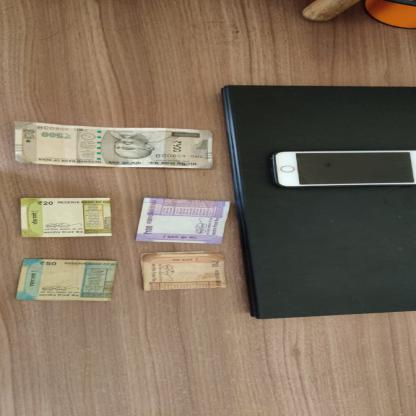New100Back: (135, 198, 231, 244)
New10Back: (138, 249, 228, 292)
New20Back: (20, 197, 113, 238)
New500Front: (13, 120, 215, 170)
New50Back: (15, 258, 119, 301)
